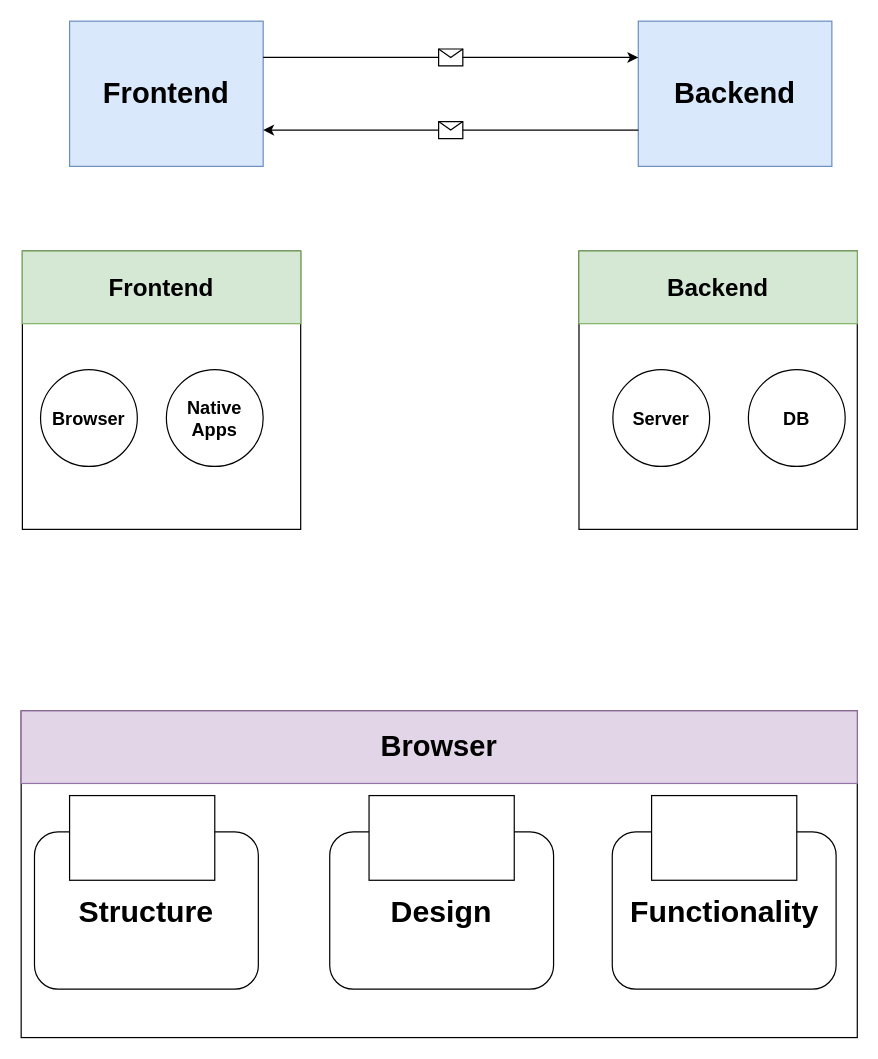
Some shapes in this 878 by 1059 pixel diagram are drawn without their labels. Each missing label, with the centre of its shape:
CSS: point 441,837
Html: point 141,837
js: point 723,837
